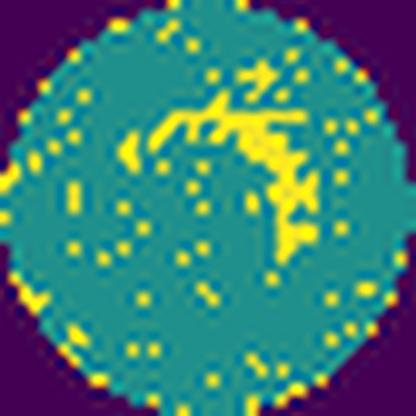Donut: (108, 86, 342, 296)
